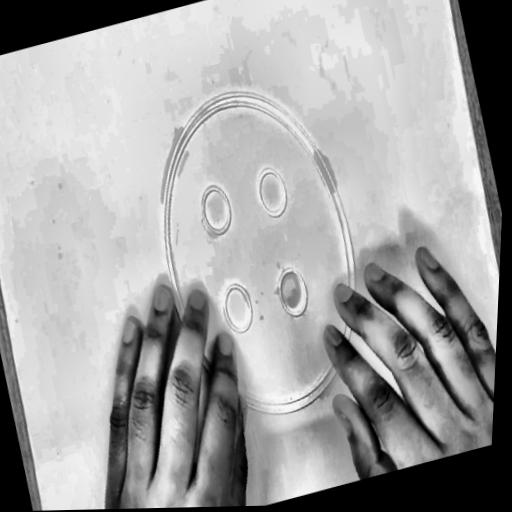button: (135, 68, 387, 442)
